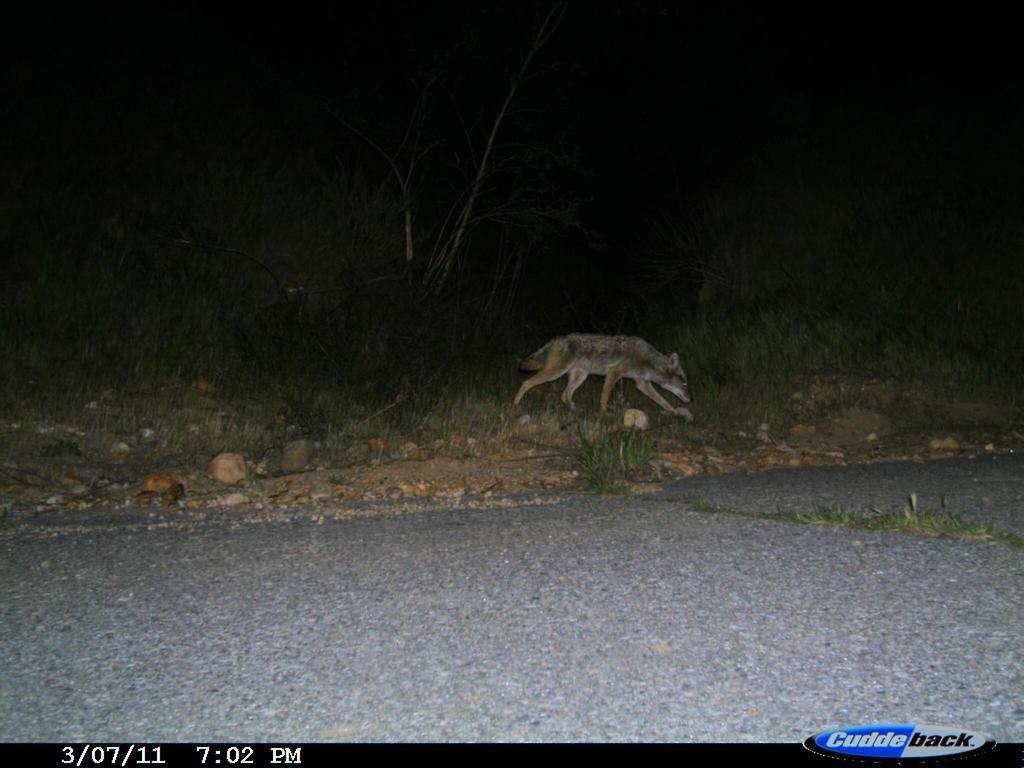coyote: (495, 322, 729, 447)
